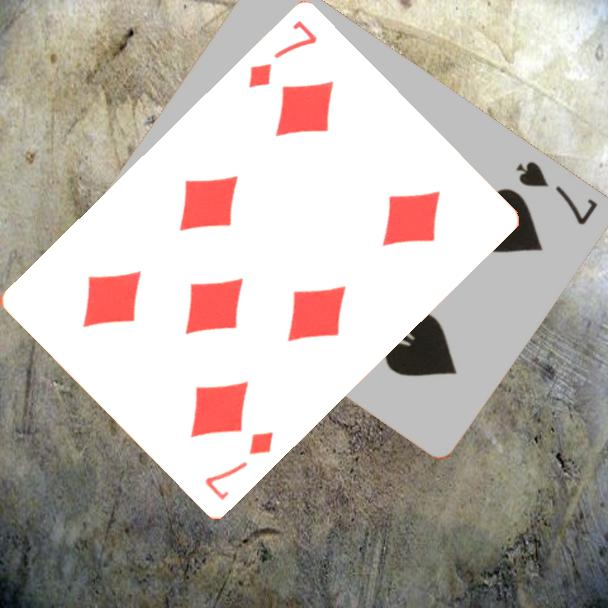d07: (201, 428, 277, 504), (244, 17, 320, 92)
s07: (511, 157, 600, 228)
